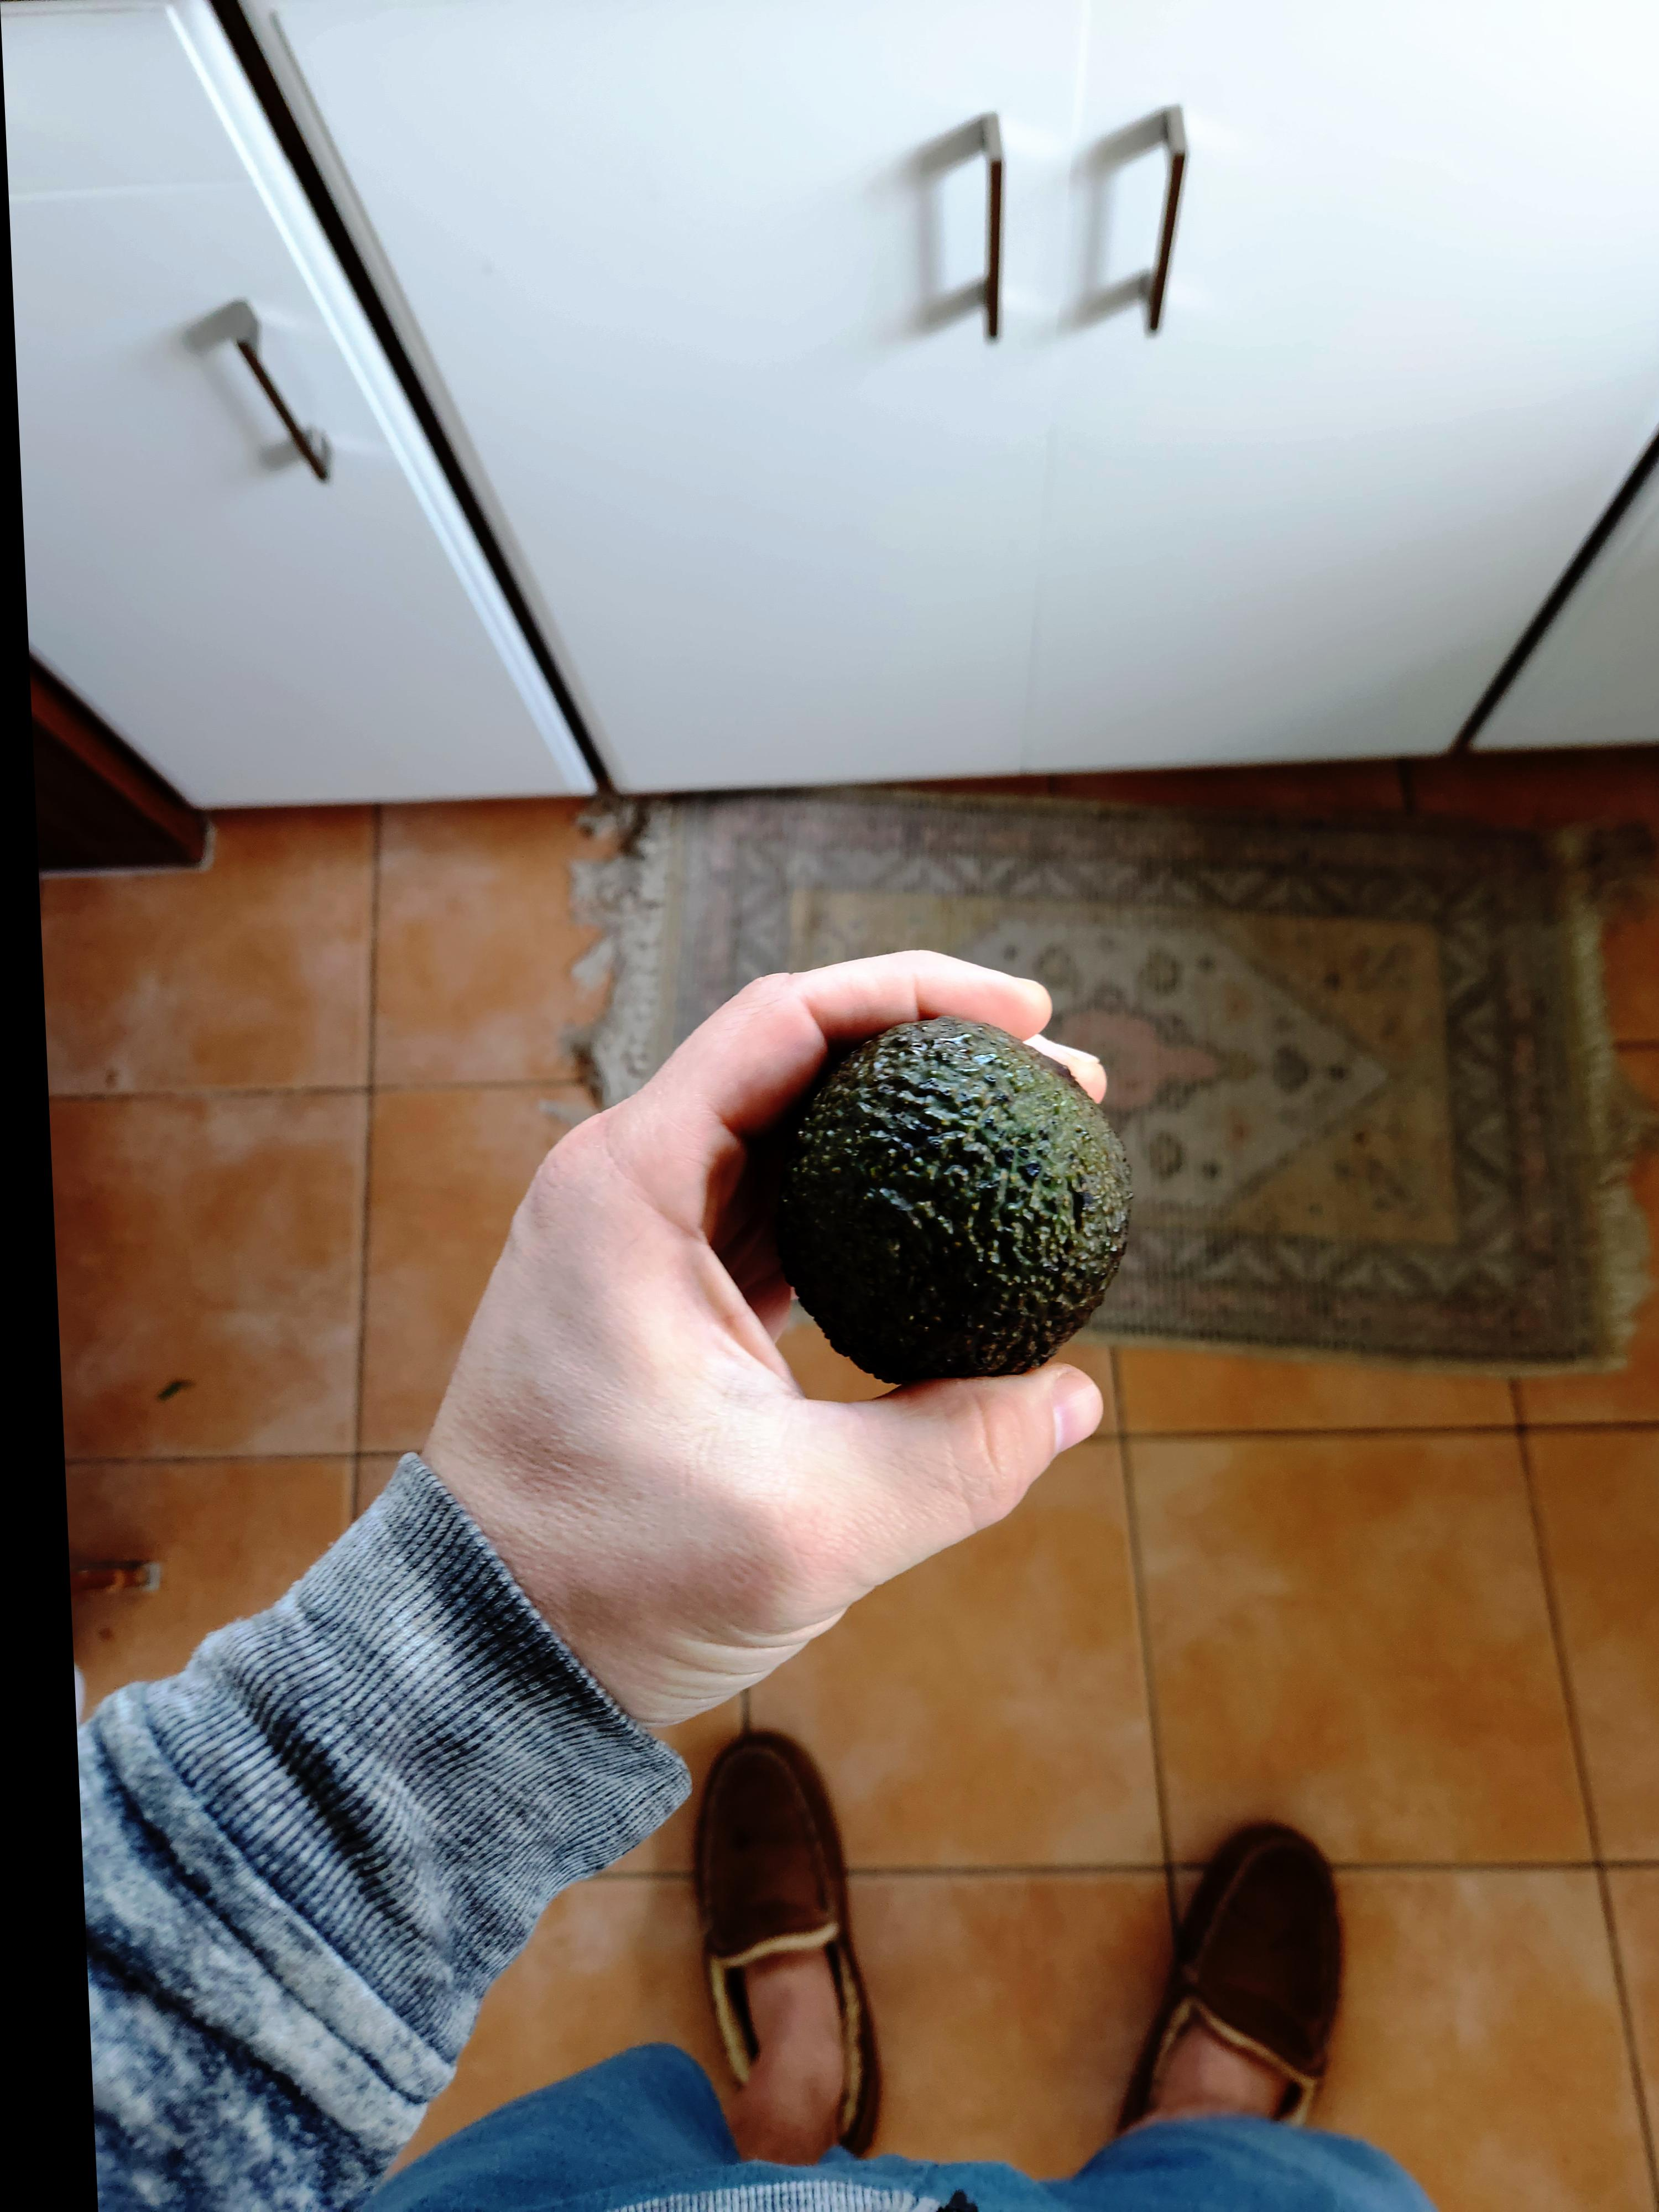avocado: (561, 1334, 856, 1834)
